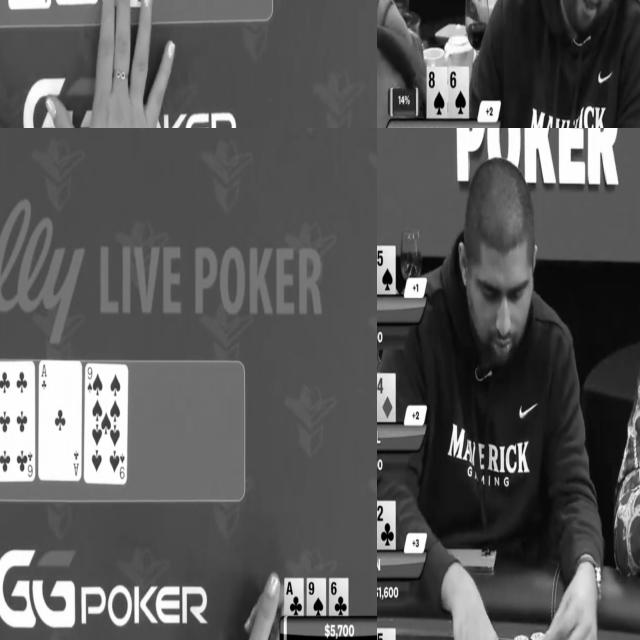2C: (377, 502, 394, 549)
4D: (377, 374, 394, 421)
5C: (377, 629, 395, 640)
5S: (377, 247, 394, 293)
6C: (330, 578, 349, 618)
6S: (450, 68, 468, 116)
8S: (428, 68, 446, 117)
9S: (306, 577, 326, 615)
AC: (284, 579, 304, 617)
